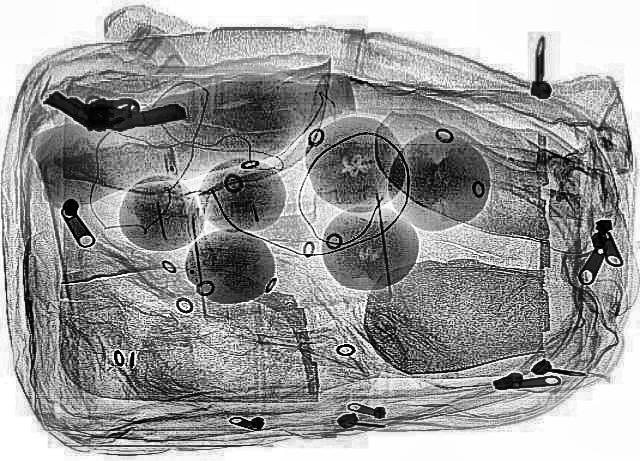Gun: (37, 80, 189, 146)
